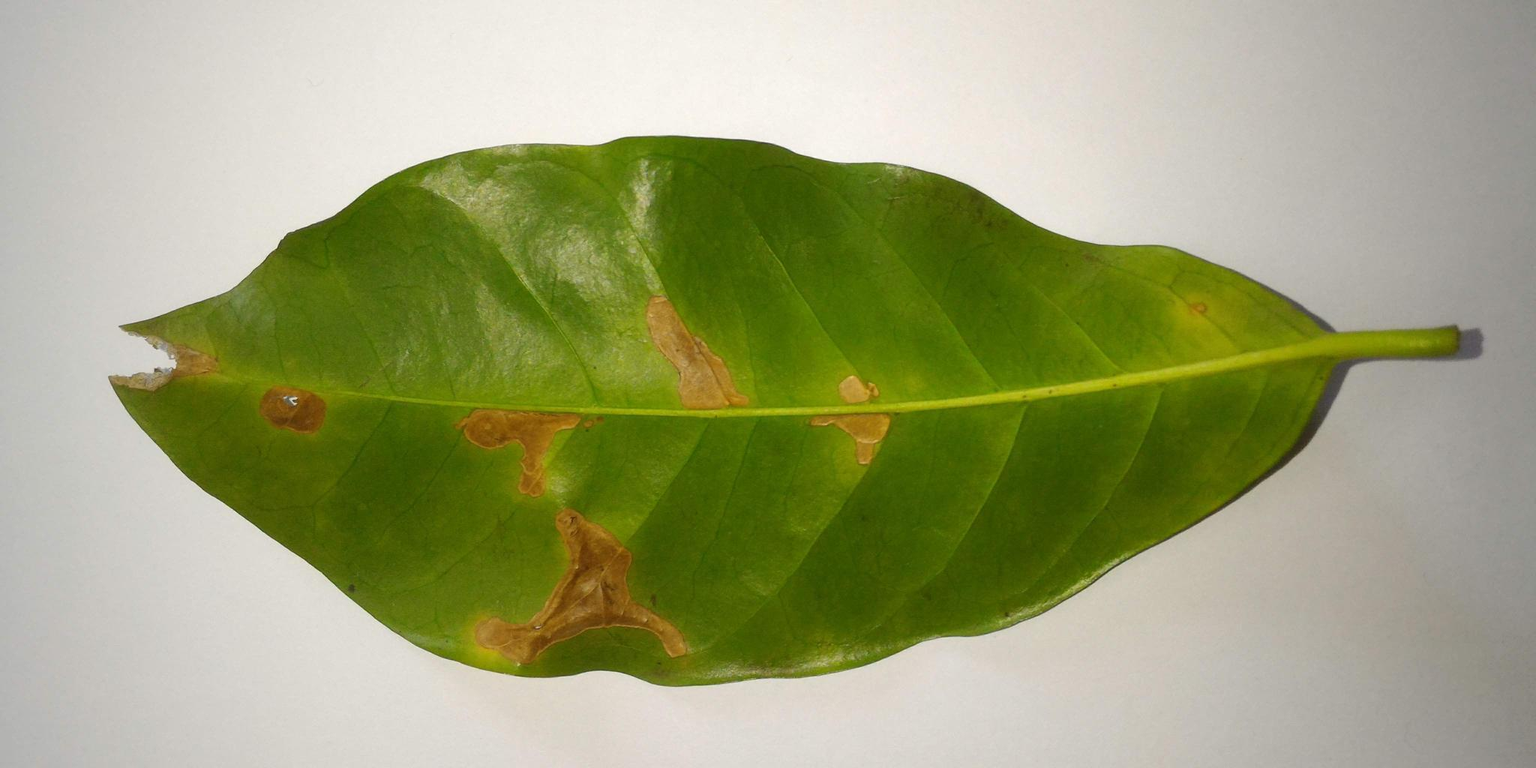Miner: (467, 501, 694, 672), (631, 288, 760, 421), (447, 403, 612, 499), (798, 362, 912, 472), (246, 375, 334, 442)
